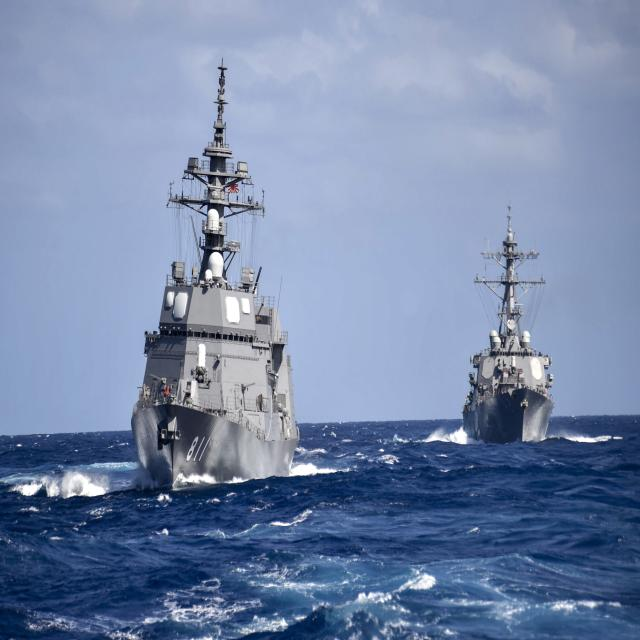navalvessels: (115, 66, 344, 516), (452, 213, 596, 447)
